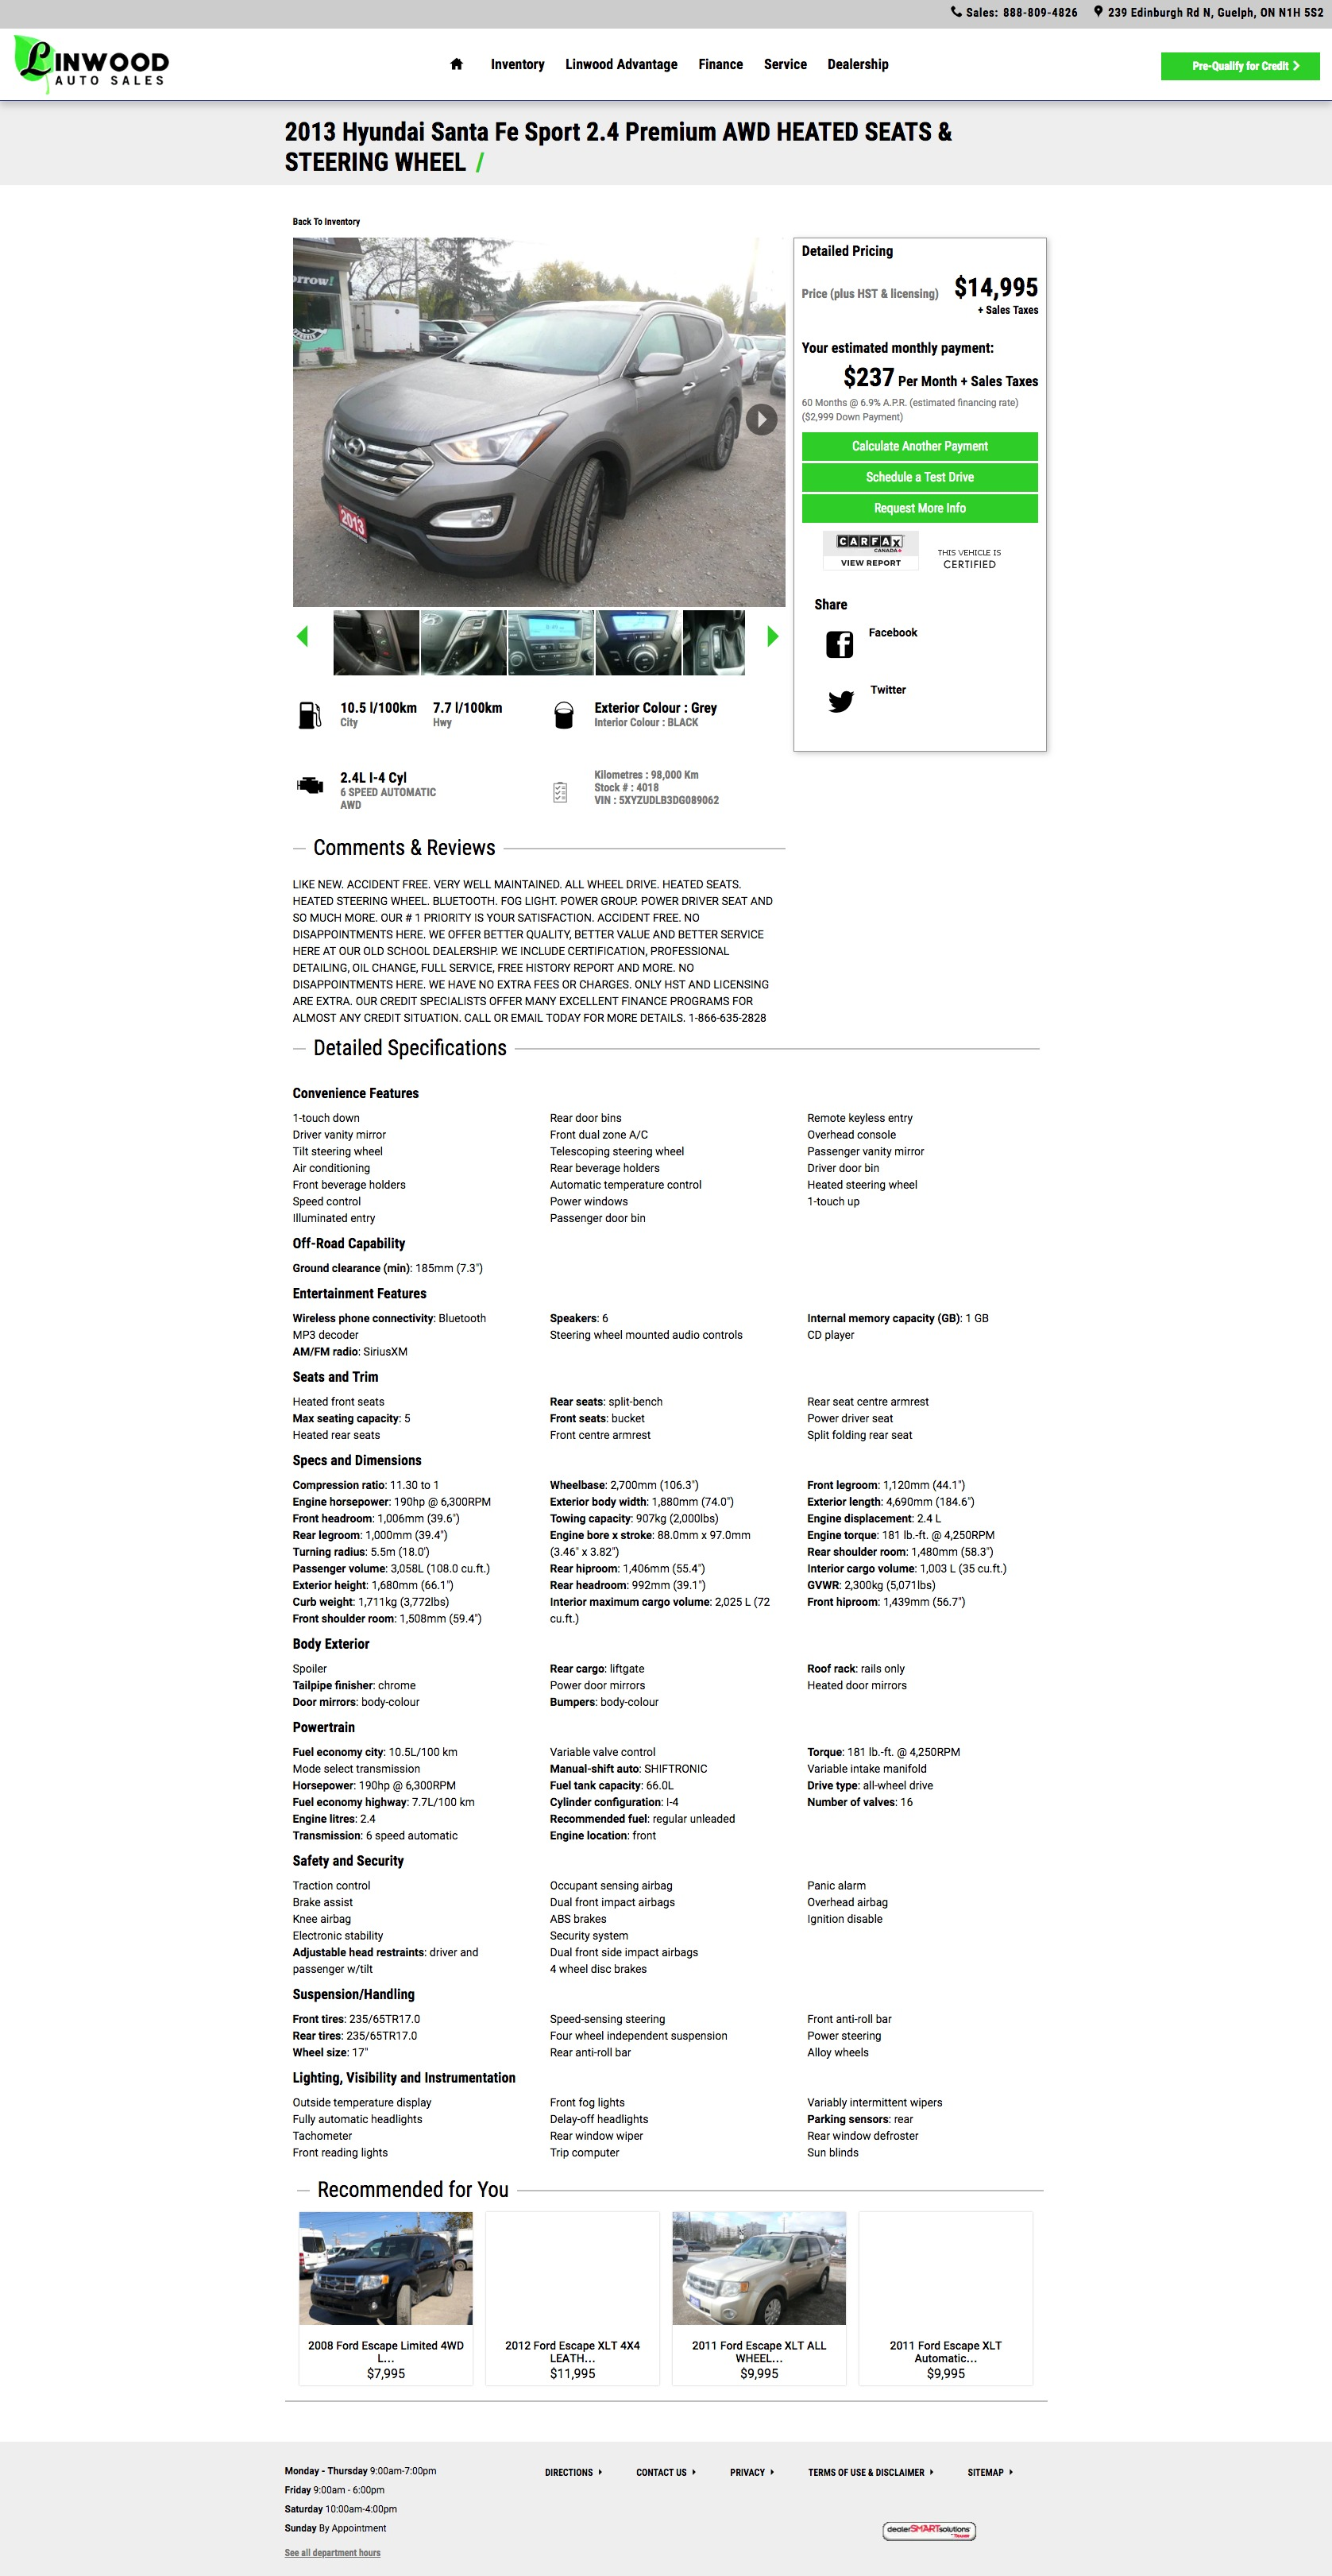car: (766, 625, 780, 649)
